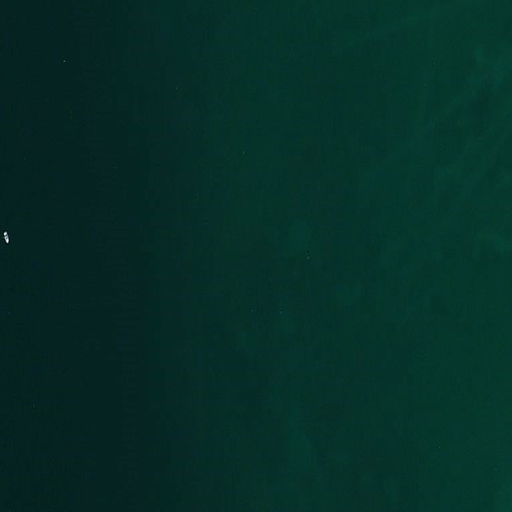ship: (1, 229, 12, 247)
